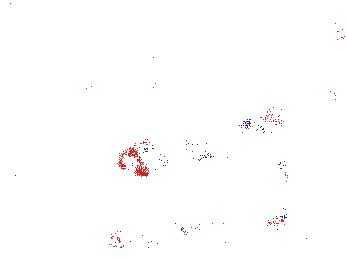red belly glassfish: (264, 204, 305, 235), (272, 160, 294, 185)
redtail glassfish: (110, 96, 287, 177), (104, 212, 212, 251), (1, 141, 33, 183)
